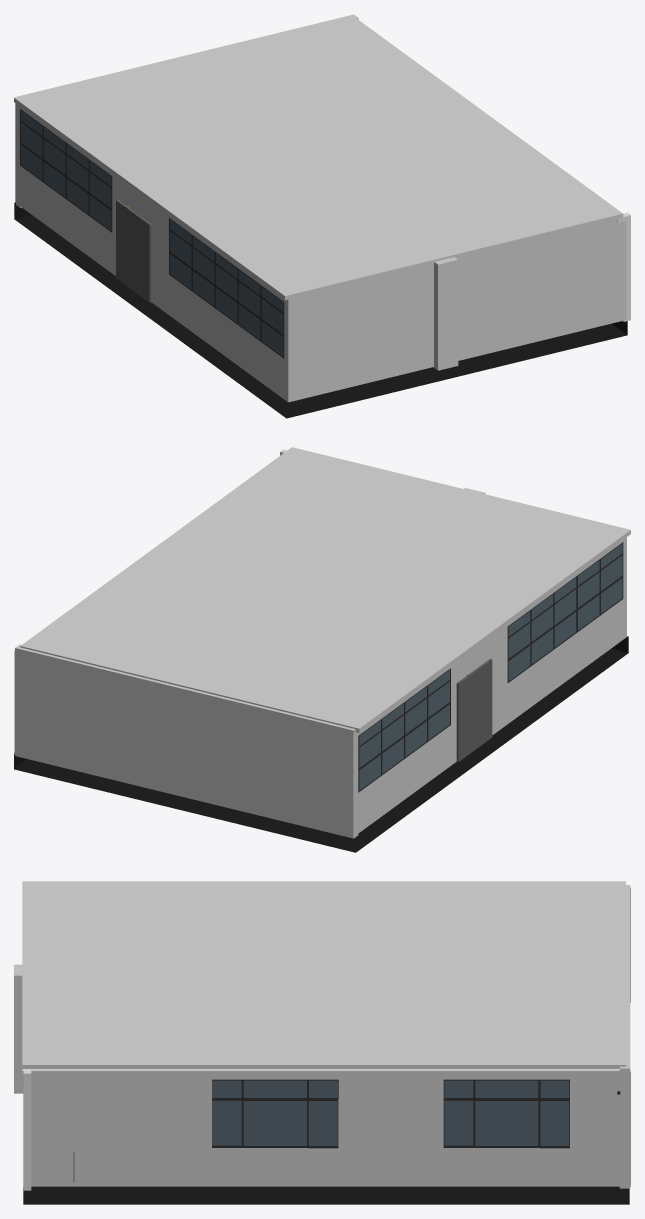
Rendered from escena no.fbx.
The picture shows the model from 3 angles, top to bottom: view 1: azimuth 30°, elevation 25°; view 2: azimuth 150°, elevation 25°; view 3: azimuth 270°, elevation 25°; orthographic projection. The views are drawn at different scales.
Visible parts, largest first — view 1: techo, Cube, Cube.002, Cube.029, columnita02, Cube.018, Cube.024, pared; view 2: techo, pared, Cube, Cube.002, Cube.029, Cube.018, Cube.024; view 3: techo, Cube, Cube.002, Cube.017, Cube.026, Cube.042, columnita02, Cube.005, pared.
Part boxes in pixels (bbox=[...]): techo: bbox=[14, 15, 623, 300]; Cube: bbox=[15, 103, 626, 402]; Cube.002: bbox=[14, 202, 627, 418]; Cube.029: bbox=[116, 200, 151, 302]; columnita02: bbox=[433, 257, 458, 370]; Cube.018: bbox=[192, 235, 284, 358]; Cube.024: bbox=[20, 109, 112, 232]; pared: bbox=[15, 14, 358, 207]; techo: bbox=[20, 447, 630, 732]; pared: bbox=[15, 644, 358, 838]; Cube: bbox=[14, 537, 626, 836]; Cube.002: bbox=[14, 636, 628, 852]; Cube.029: bbox=[456, 658, 492, 761]; Cube.018: bbox=[531, 542, 623, 665]; Cube.024: bbox=[358, 668, 450, 792]; techo: bbox=[22, 881, 625, 1068]; Cube: bbox=[23, 887, 630, 1186]; Cube.002: bbox=[23, 1186, 629, 1204]; Cube.017: bbox=[22, 1069, 619, 1075]; Cube.026: bbox=[443, 1079, 569, 1148]; Cube.042: bbox=[212, 1079, 338, 1148]; columnita02: bbox=[14, 964, 23, 1093]; Cube.005: bbox=[23, 1070, 31, 1190]; pared: bbox=[619, 885, 630, 1188].
Bounding box in the file's own units: 926 × 315 × 1283.
